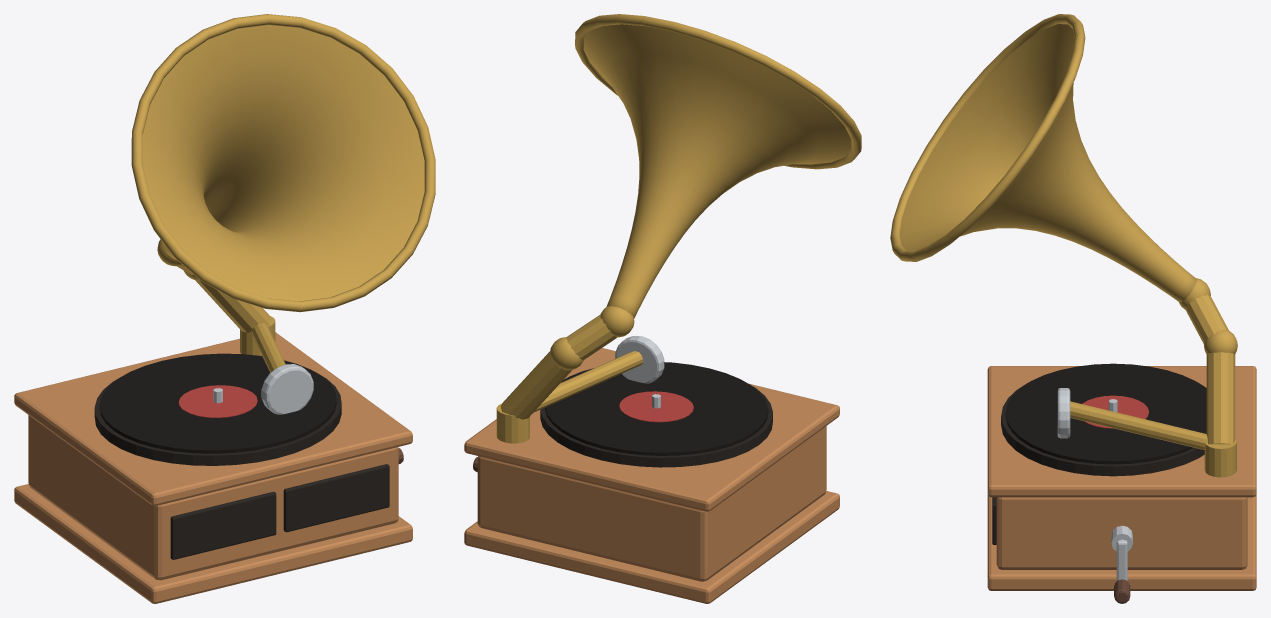
Rendered from hh_cat_gramophone.glb.
3 renders of one model, left to right at view 1: azimuth 30°, elevation 25°; view 2: azimuth 150°, elevation 25°; view 3: azimuth 270°, elevation 25°, orthographic. The views are drawn at different scales.
Parts seen in each view (by area): view 1: horn, case, case_top, record, bell_rim, plinth, panel.001, panel, platter, soundbox, centre, elbow (+1 smaller); view 2: horn, case, case_top, record, plinth, bell_rim, platter, elbow, centre, tone_arm, soundbox, elbow.001 (+3 smaller); view 3: horn, case, case_top, record, plinth, bell_rim, platter, elbow, tone_arm, elbow.001, arm_base, centre (+2 smaller).
Boxes of the visible parts, left/top/right/bottom form: horn: left=142, top=24, right=424, bottom=301; case: left=28, top=415, right=398, bottom=580; case_top: left=14, top=332, right=412, bottom=505; record: left=99, top=353, right=336, bottom=453; bell_rim: left=131, top=14, right=435, bottom=312; plinth: left=14, top=484, right=412, bottom=603; panel.001: left=283, top=464, right=389, bottom=532; panel: left=170, top=491, right=276, bottom=559; platter: left=94, top=372, right=341, bottom=465; soundbox: left=261, top=364, right=313, bottom=414; centre: left=178, top=385, right=257, bottom=417; elbow: left=195, top=280, right=270, bottom=332; horn: left=583, top=24, right=851, bottom=318; case: left=477, top=426, right=826, bottom=581; case_top: left=464, top=348, right=839, bottom=511; record: left=545, top=362, right=768, bottom=455; plinth: left=464, top=491, right=839, bottom=603; bell_rim: left=575, top=14, right=861, bottom=169; platter: left=540, top=379, right=772, bottom=467; elbow: left=500, top=351, right=571, bottom=419; centre: left=619, top=391, right=693, bottom=422; tone_arm: left=534, top=351, right=643, bottom=412; soundbox: left=615, top=336, right=664, bottom=383; elbow.001: left=566, top=315, right=617, bottom=360; horn: left=899, top=24, right=1196, bottom=302; case: left=996, top=497, right=1247, bottom=569; case_top: left=987, top=366, right=1256, bottom=497; record: left=1005, top=363, right=1206, bottom=464; plinth: left=987, top=494, right=1256, bottom=590; bell_rim: left=890, top=14, right=1085, bottom=261; platter: left=1001, top=383, right=1205, bottom=476; elbow: left=1206, top=352, right=1235, bottom=444; tone_arm: left=1070, top=401, right=1207, bottom=449; elbow.001: left=1185, top=294, right=1228, bottom=343; arm_base: left=1204, top=439, right=1236, bottom=477; centre: left=1082, top=395, right=1148, bottom=428.
Bounding box in the file's own units: 0.4 × 0.6 × 0.4.
